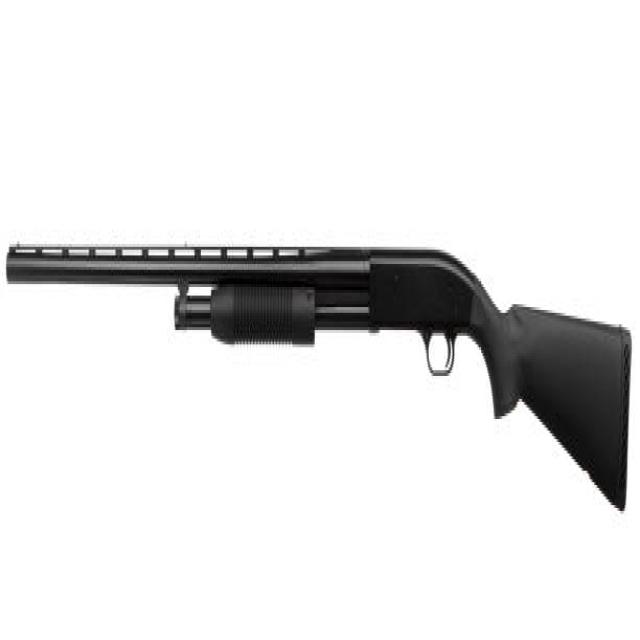rifle: (4, 226, 635, 524)
